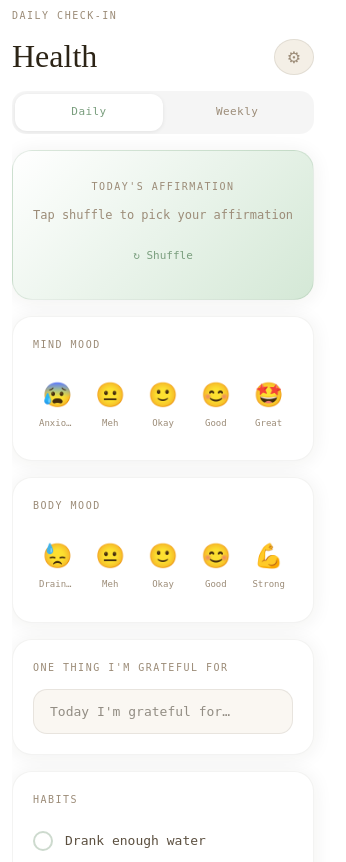
Scenario: HealthScreen – Weekly View › shows weekly reflection textareas
What coordinates should you click on to do the following:
click the button "Weekly"
I would click on:
 (237, 113)
Its box is [163, 94, 311, 131].
(page scrolled)
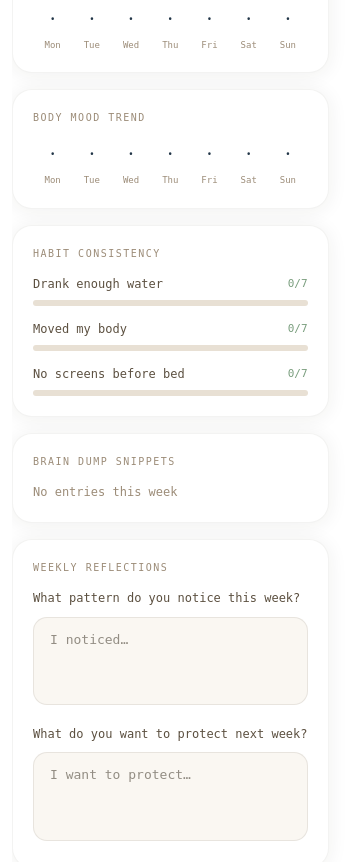
Expected: the text box with placeholder "I noticed…" is shown, [33, 617, 308, 705]
Expected: the text box with placeholder "I want to protect…" is shown, [33, 752, 308, 841]
